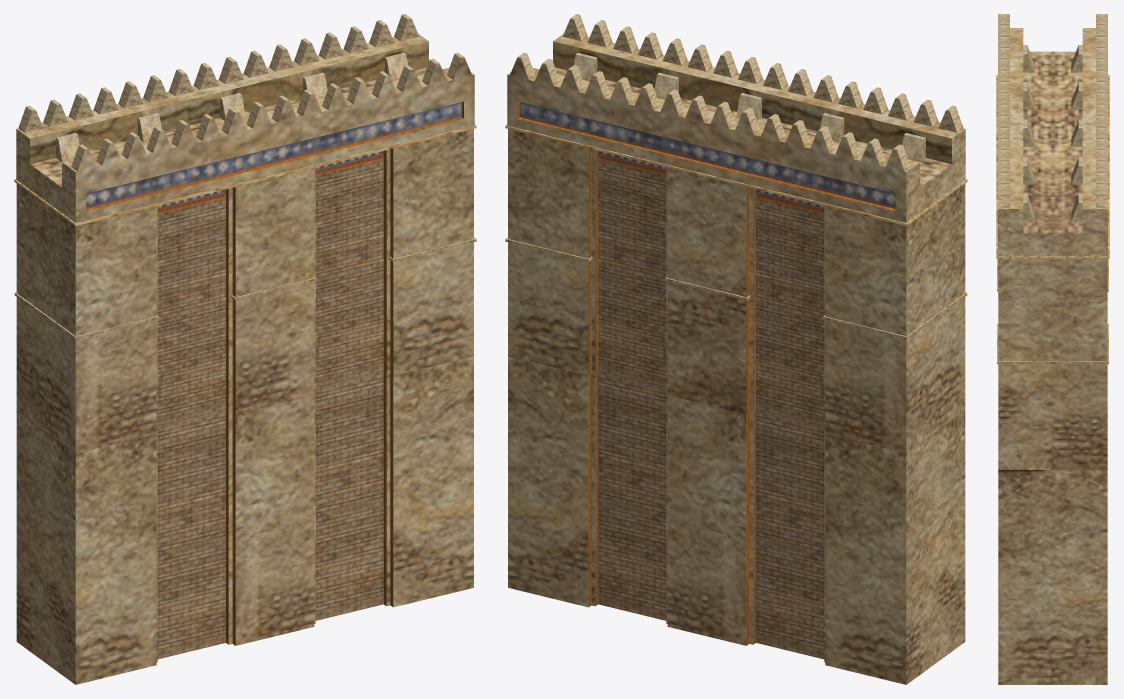
Rendered from s_persians_wall_medium.glb.
The picture shows the model from 3 angles, left to right: view 1: azimuth 30°, elevation 25°; view 2: azimuth 150°, elevation 25°; view 3: azimuth 270°, elevation 25°; orthographic projection. The views are drawn at different scales.
Parts seen in each view (by area): view 1: s_persians_wall_medium_part0; view 2: s_persians_wall_medium_part0; view 3: s_persians_wall_medium_part0.
Boxes of the visible parts, box(x1,y1,x2,y2) form: s_persians_wall_medium_part0: box(14, 14, 476, 684); s_persians_wall_medium_part0: box(505, 14, 967, 684); s_persians_wall_medium_part0: box(996, 14, 1109, 684).
Size of the model in its own units: 6.06 by 7.69 by 1.59.
Materials: 1 (1 with a texture image).
